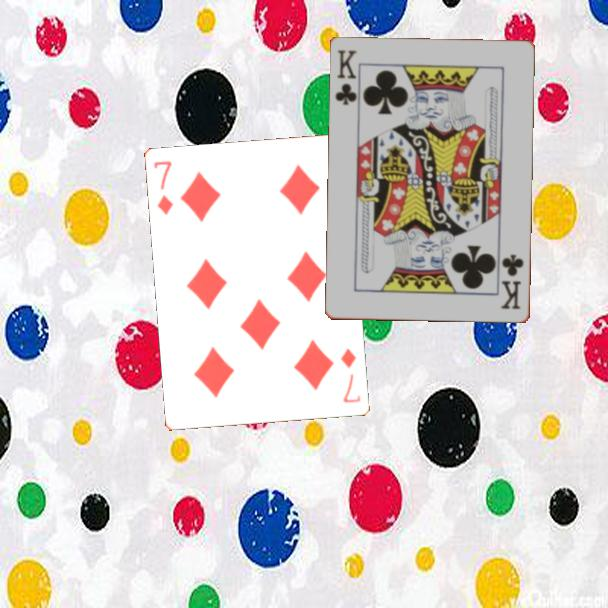c13: (498, 251, 527, 312), (332, 47, 360, 108)
d07: (337, 345, 364, 406), (151, 158, 176, 218)
